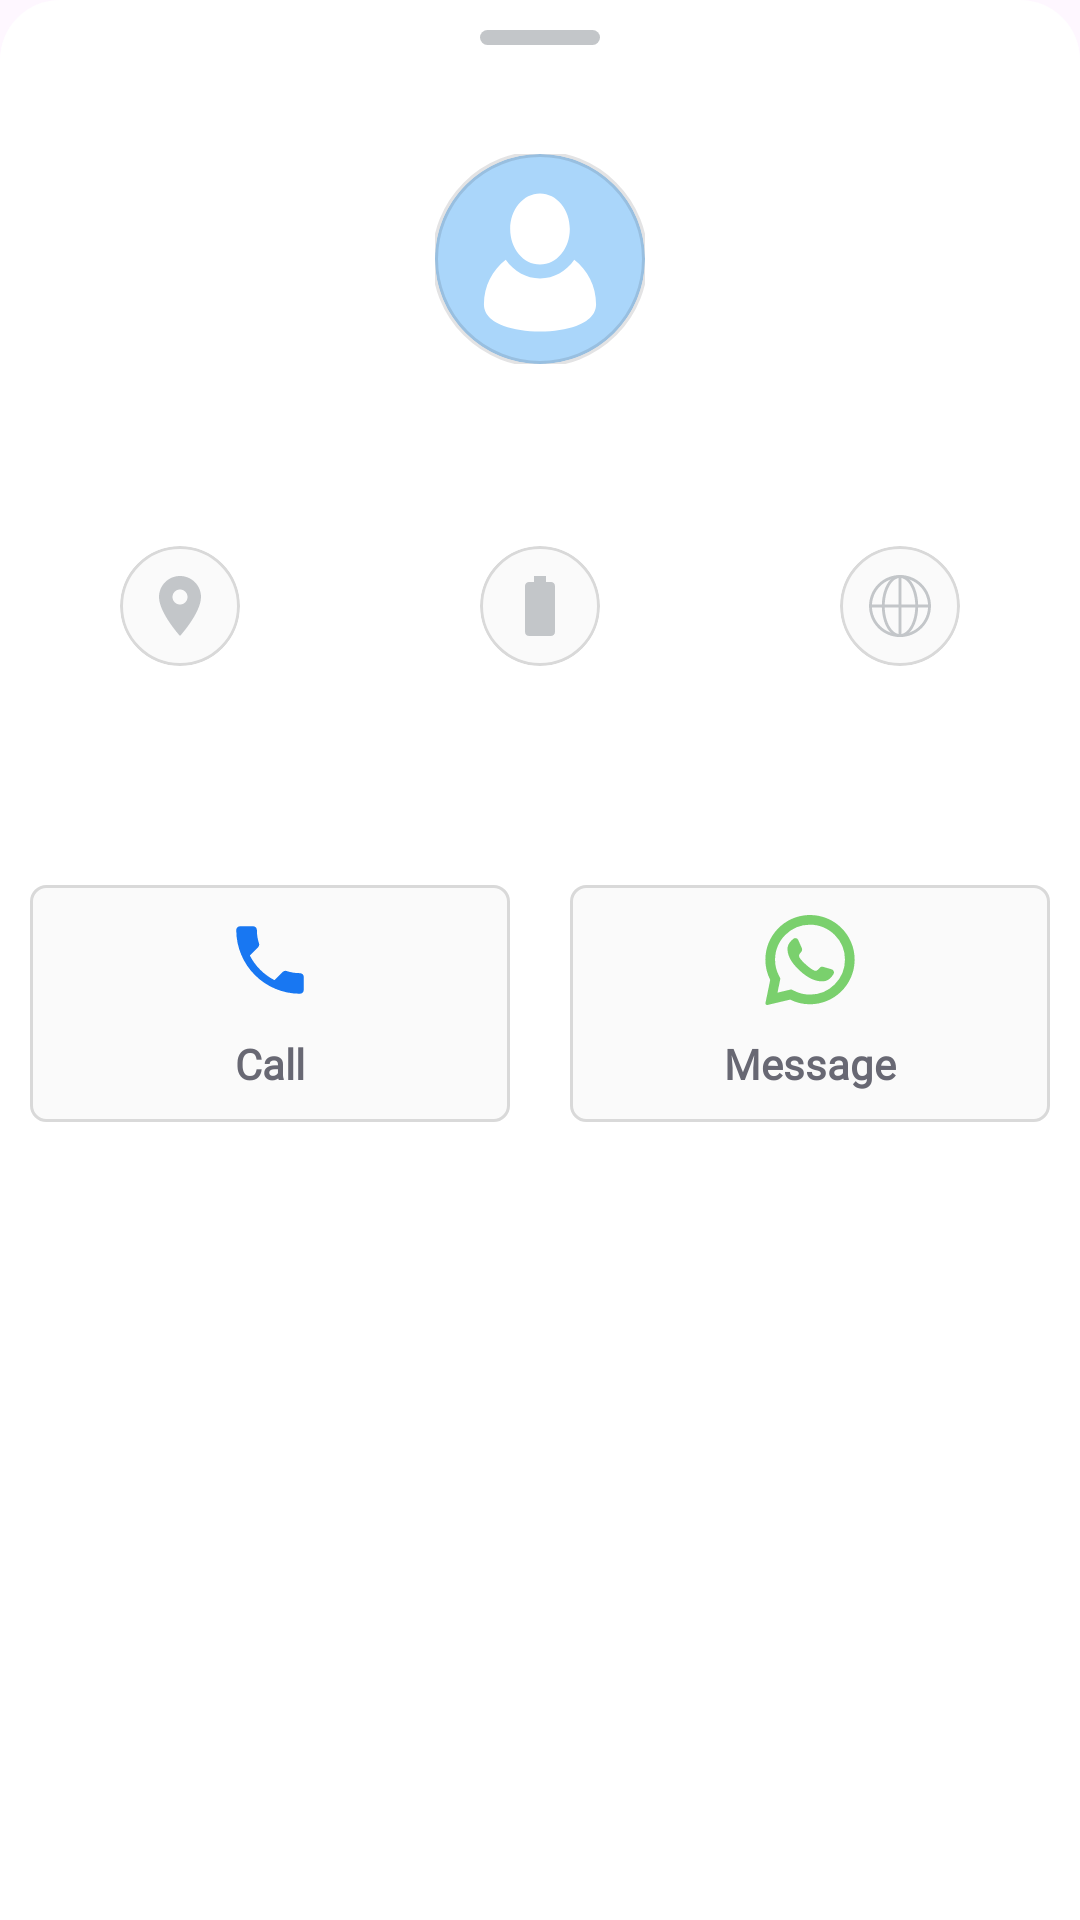

Named icons in this screenshot (1080w x 1920h) and their centers, [x,y]:
Battery: [540,606]
Location: [180,606]
Network: [900,606]
phone: [270,960]
User Image: [540,259]
